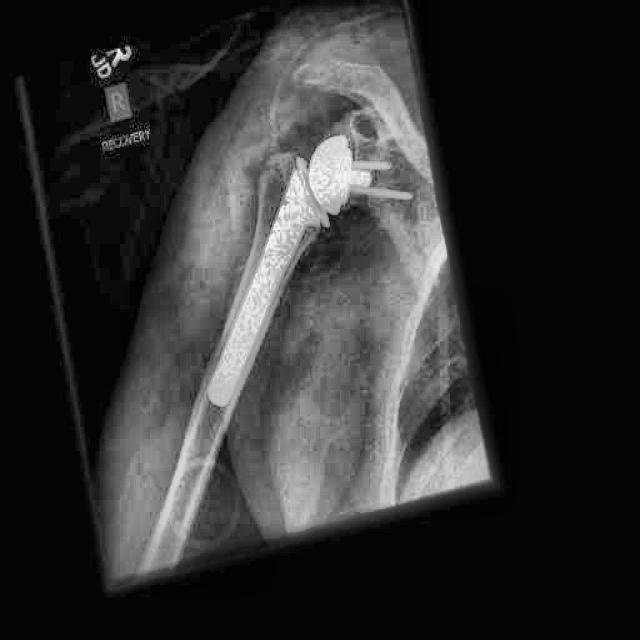shoulder fracture: (275, 93, 373, 242)
